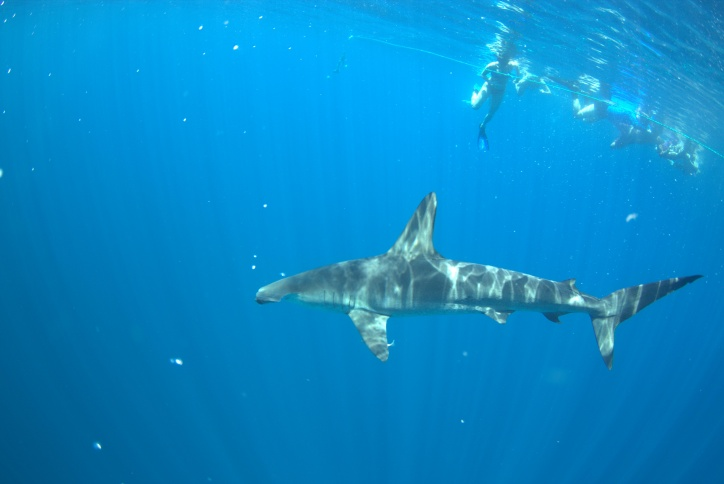Hammer: (218, 167, 718, 389)
